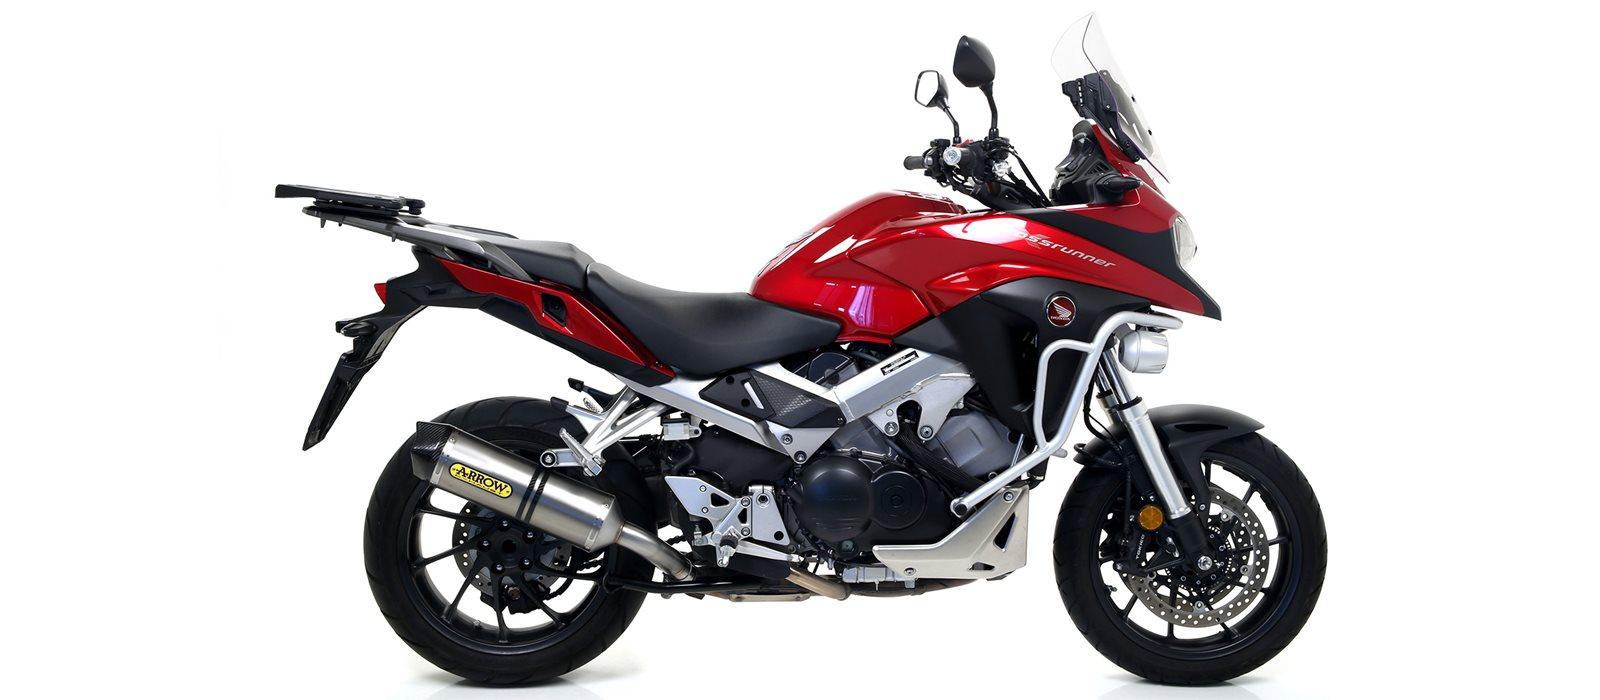engine-chasis: (664, 341, 1048, 583), (602, 571, 809, 596)
exhaust: (410, 420, 979, 603)
frontside: (847, 11, 1264, 580)
handlebar: (903, 34, 1122, 210)
motorbike: (276, 13, 1329, 684)
rearside: (273, 184, 793, 546)
seat: (587, 261, 842, 374), (424, 224, 596, 292)
tank: (748, 189, 969, 345)
wheel: (362, 432, 655, 686), (1052, 432, 1328, 686), (430, 396, 589, 464), (1073, 361, 1133, 536), (553, 441, 658, 537), (665, 534, 687, 546)
